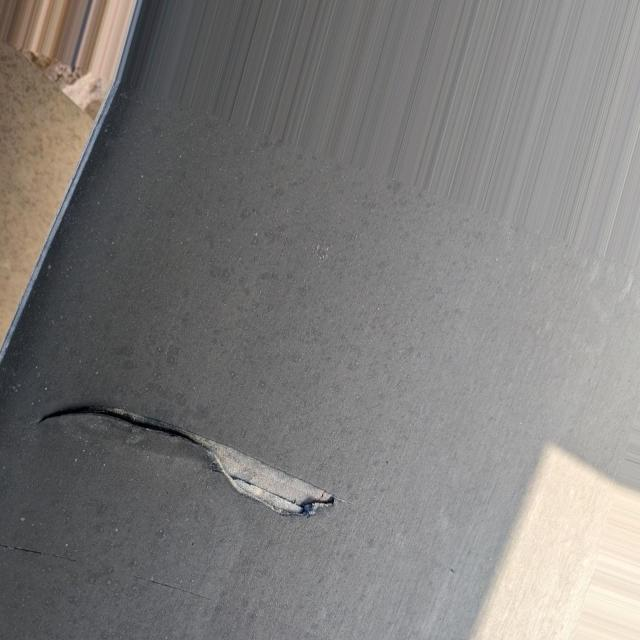Tear: (37, 406, 334, 517)
